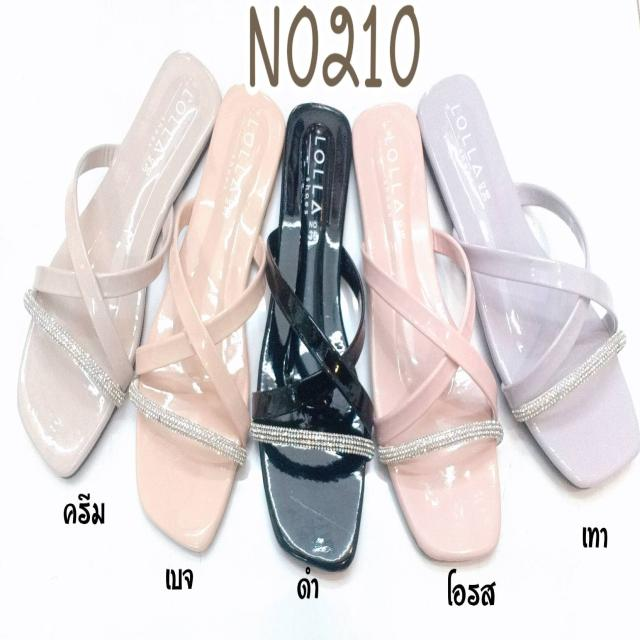bej: (134, 80, 285, 560)
black: (258, 99, 368, 571)
cream: (20, 46, 218, 462)
grey: (418, 82, 636, 489)
orot: (352, 99, 501, 569)
